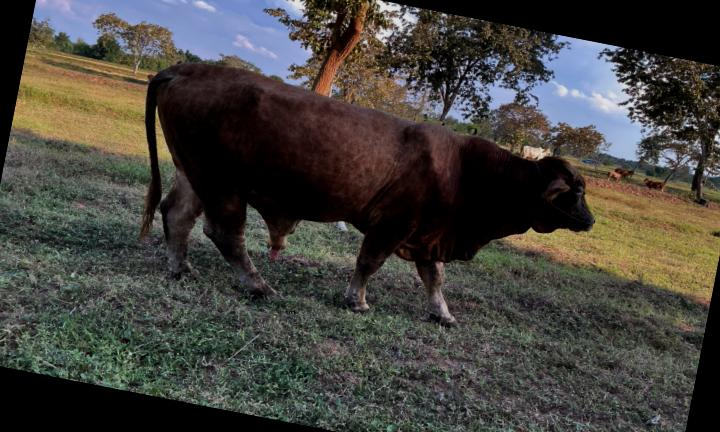Charolais: (142, 63, 594, 325)
